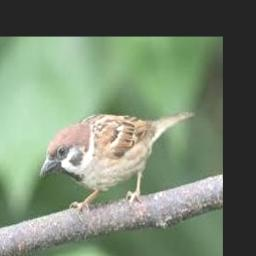Sparrow: (40, 111, 196, 212)
